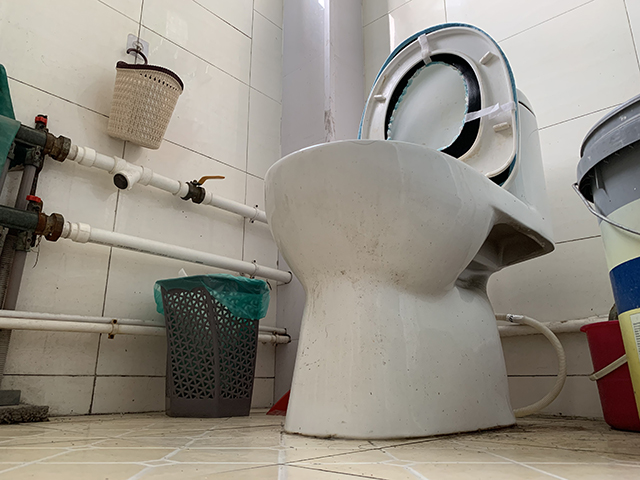closestool: (262, 20, 557, 442)
trashcan: (153, 273, 268, 415)
